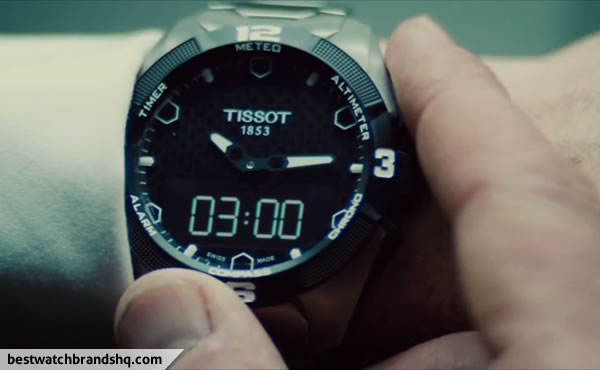clock: (126, 21, 398, 280)
